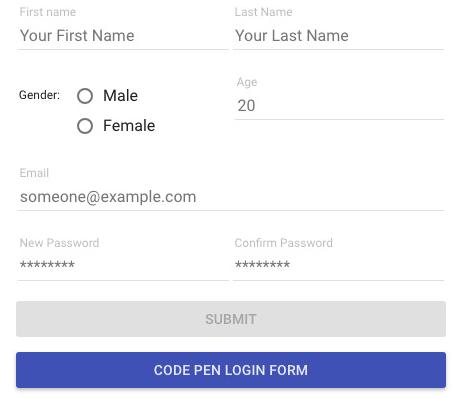button: (14, 351, 449, 392), (14, 299, 448, 339)
field_line: (13, 184, 447, 215), (232, 92, 446, 123), (16, 22, 231, 51), (16, 255, 230, 283), (233, 23, 446, 51), (232, 256, 444, 284)
field_line_with_label: (10, 166, 450, 217), (230, 76, 450, 124), (13, 238, 232, 285), (233, 6, 448, 53), (233, 239, 447, 286), (13, 6, 231, 52)
radio: (76, 115, 97, 140), (75, 86, 95, 107)
radio_with_label: (73, 114, 157, 142), (71, 83, 138, 109)
